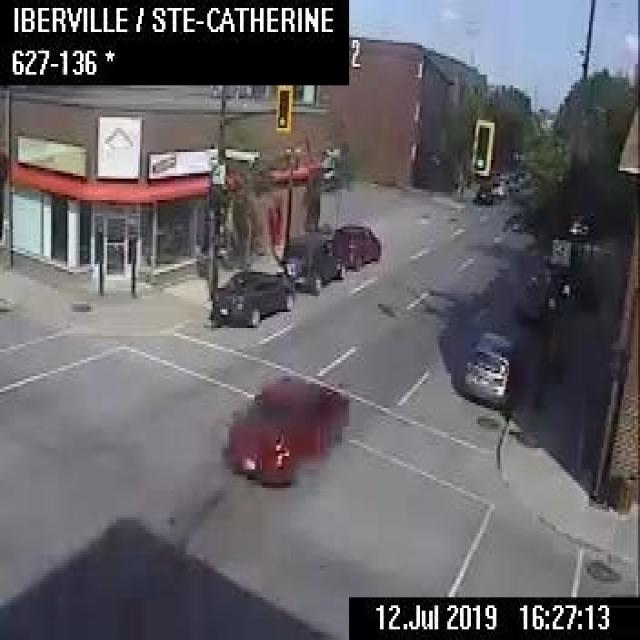vehicle: (220, 374, 347, 486), (205, 269, 293, 328), (466, 330, 522, 407), (277, 230, 346, 290), (330, 222, 380, 270), (512, 273, 552, 319), (489, 177, 508, 195), (474, 182, 491, 202), (505, 171, 522, 189)
